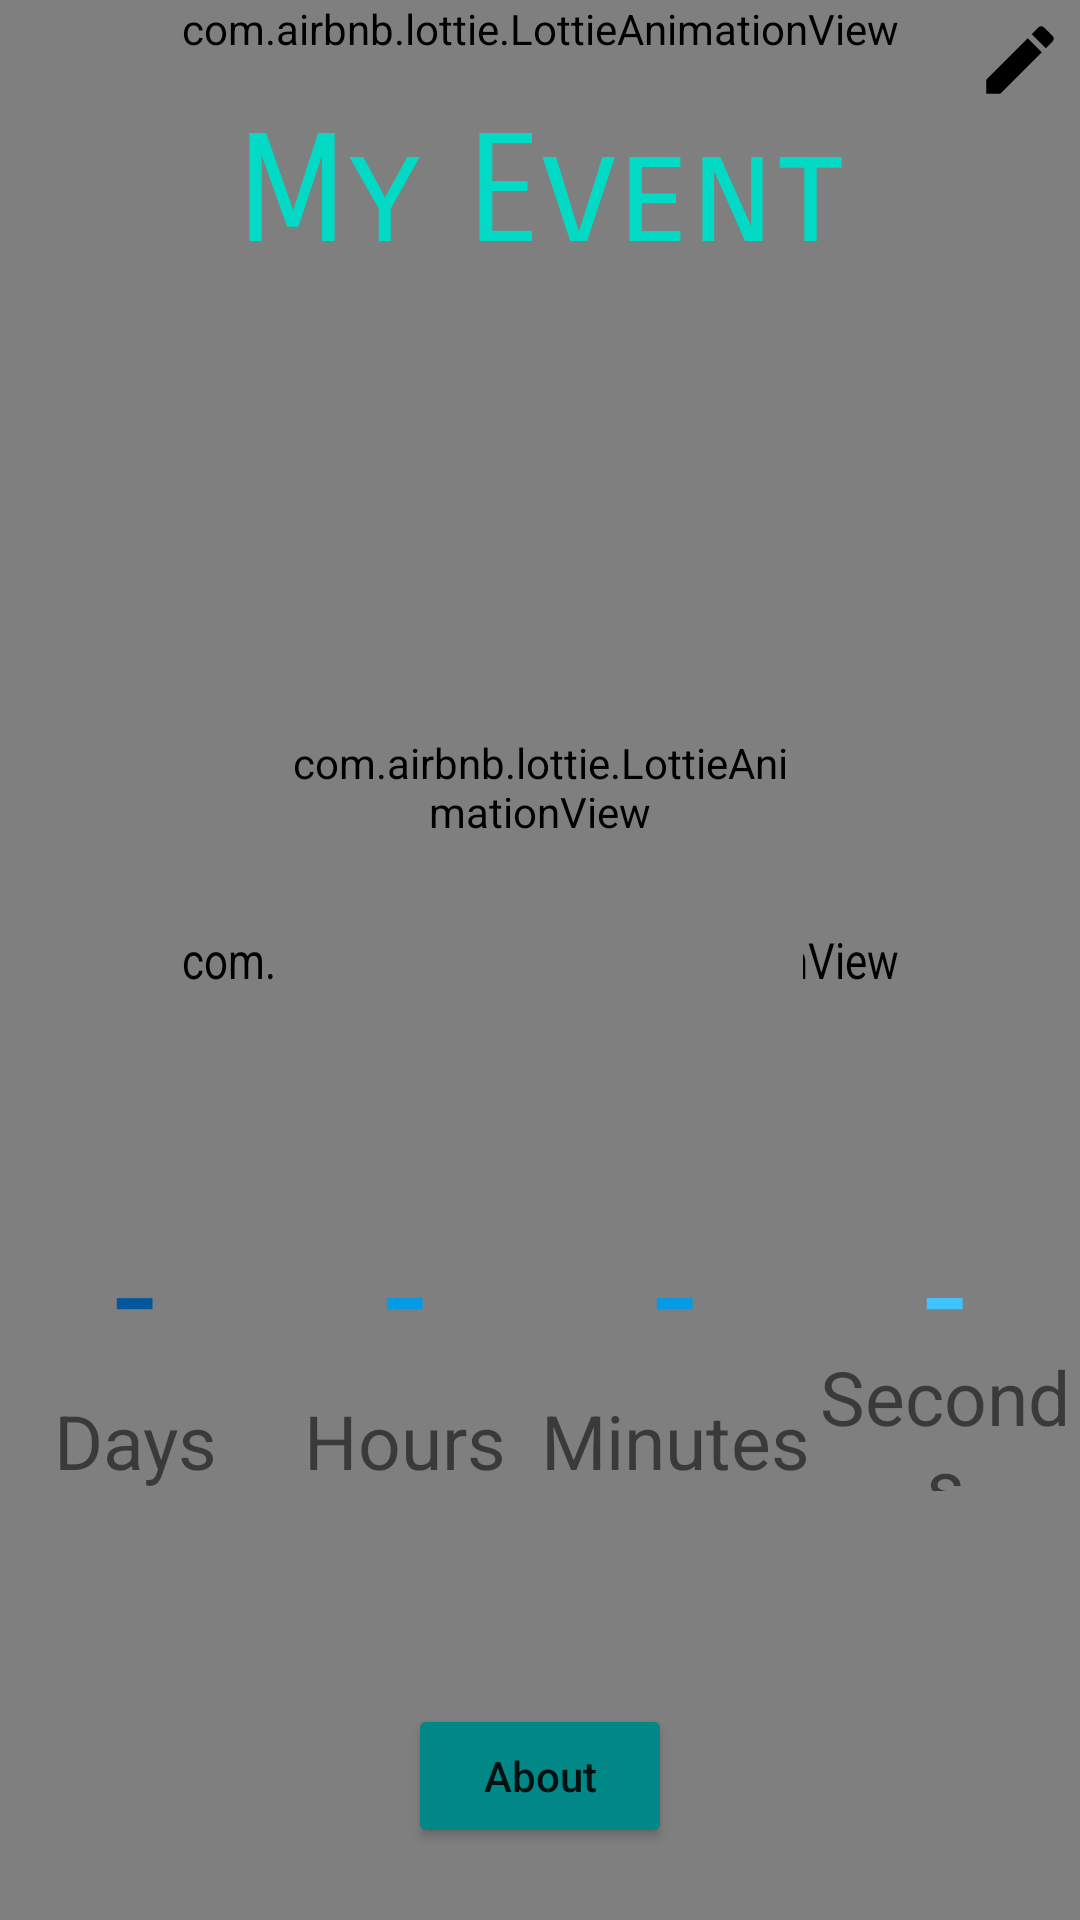

Locate icon controls on the screen. Image size 1080 x 1920, boxes as (x1, y1, x2, y2).
edit: (986, 26, 1054, 94)
